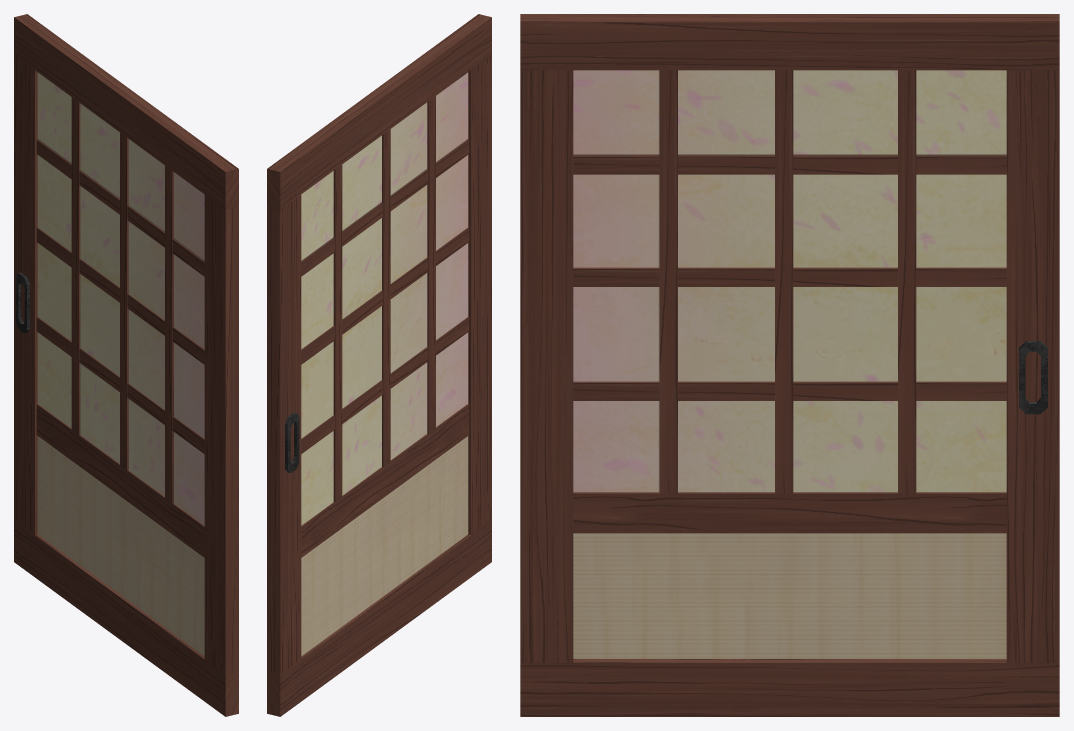
File: SM_doorSingle.fbx
3 renders of one model, left to right at view 1: azimuth 30°, elevation 25°; view 2: azimuth 150°, elevation 25°; view 3: azimuth 270°, elevation 25°, orthographic. The views are drawn at different scales.
Parts seen in each view (by area): view 1: SM_doorSingle; view 2: SM_doorSingle; view 3: SM_doorSingle.
Boxes of the visible parts, left/top/right/bottom form: SM_doorSingle: left=14, top=14, right=238, bottom=716; SM_doorSingle: left=267, top=14, right=491, bottom=716; SM_doorSingle: left=520, top=14, right=1059, bottom=716.
Bounding box in the file's own units: 785 × 20992 × 14769.
